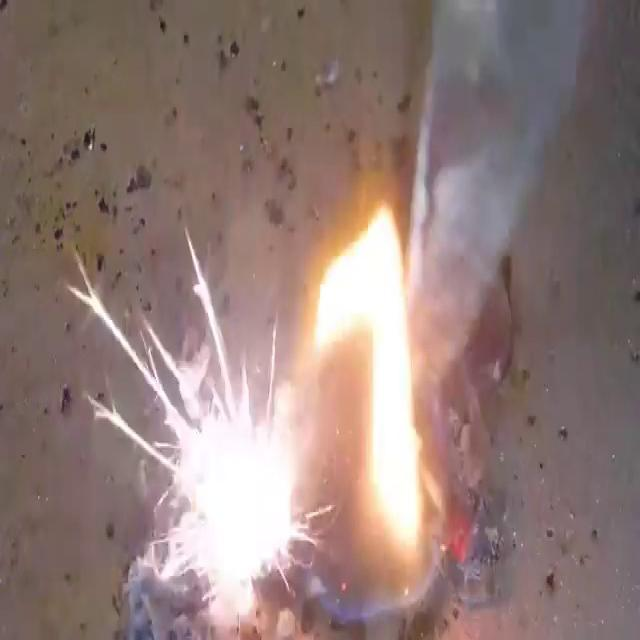Fire: (66, 197, 444, 635)
